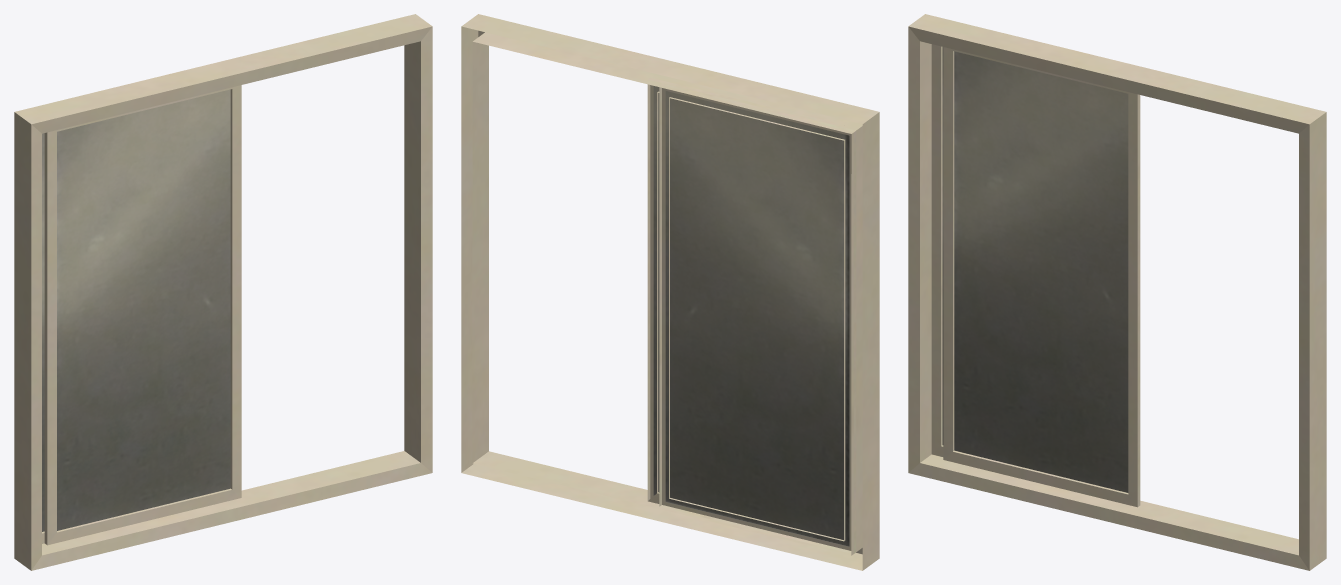
File: Window_0.75m_002.fbx
3 views of the same model, side by side, from view 1: azimuth 30°, elevation 25°; view 2: azimuth 150°, elevation 25°; view 3: azimuth 330°, elevation 25° (orthographic).
Visible parts, largest first — view 1: Window_0.75m_002; view 2: Window_0.75m_002; view 3: Window_0.75m_002.
Boxes of the visible parts, x1,y1,x2,y2 form: Window_0.75m_002: [14, 14, 432, 570]; Window_0.75m_002: [461, 14, 879, 570]; Window_0.75m_002: [908, 14, 1326, 570].
Bounding box in the file's own units: 70.52 × 75 × 5.2.
Materials: 1 (1 with a texture image).
